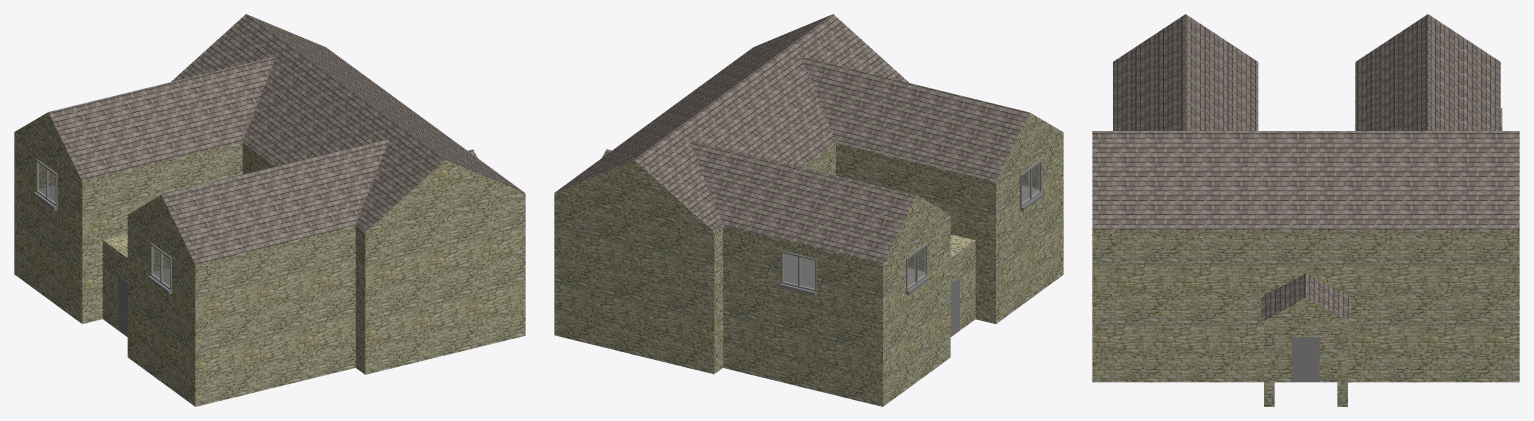
Rendered from VR House Whitebox.fbx.
3 views of the same model, side by side, from view 1: azimuth 30°, elevation 25°; view 2: azimuth 150°, elevation 25°; view 3: azimuth 270°, elevation 25° (orthographic). The views are drawn at different scales.
Parts seen in each view (by area): view 1: Group1, Model, Group3, Group4, Ocu_Window; view 2: Group1, Model, Group3, Group4, Ocu_Window; view 3: Group1, Model, Group3.
Boxes of the visible parts, x1=… form: Group1: x1=15, y1=14, x2=524, y2=264; Model: x1=14, y1=195, x2=525, y2=406; Group3: x1=14, y1=132, x2=525, y2=327; Group4: x1=39, y1=185, x2=169, y2=285; Ocu_Window: x1=148, y1=243, x2=171, y2=294; Group1: x1=554, y1=14, x2=1063, y2=264; Model: x1=554, y1=196, x2=1063, y2=406; Group3: x1=554, y1=132, x2=1063, y2=327; Group4: x1=783, y1=185, x2=1038, y2=288; Ocu_Window: x1=1020, y1=160, x2=1043, y2=211; Group1: x1=1092, y1=14, x2=1519, y2=229; Model: x1=1092, y1=297, x2=1519, y2=406; Group3: x1=1092, y1=108, x2=1519, y2=322.
Size of the model in its own units: 14810 by 7450 by 13778.
21 materials, 10 textured.
